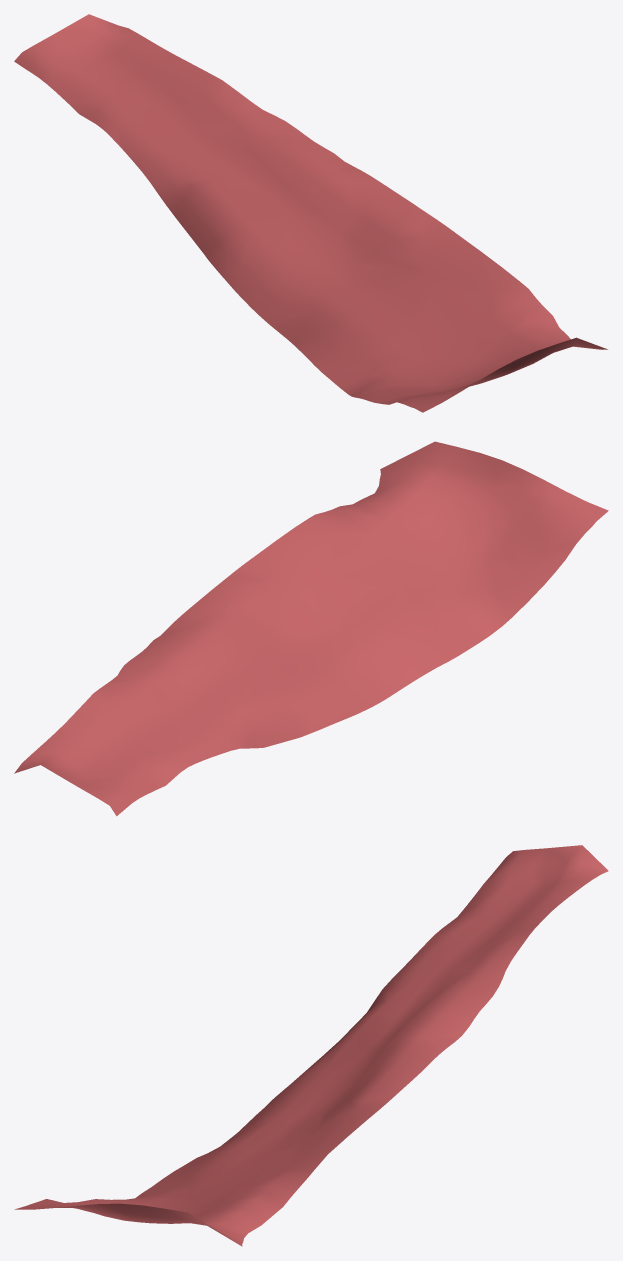
The picture shows the model from 3 angles, top to bottom: view 1: azimuth 30°, elevation 25°; view 2: azimuth 150°, elevation 25°; view 3: azimuth 330°, elevation 25°; orthographic projection. The views are drawn at different scales.
Parts seen in each view (by area): view 1: 左侧小腿横肌间隔; view 2: 左侧小腿横肌间隔; view 3: 左侧小腿横肌间隔.
Part boxes in pixels (x1,y1,x2,y2): 左侧小腿横肌间隔: [14, 14, 607, 412]; 左侧小腿横肌间隔: [14, 441, 608, 816]; 左侧小腿横肌间隔: [14, 845, 608, 1246].
Bounding box in the file's own units: 0.1143 × 0.0582 × 0.4302.
